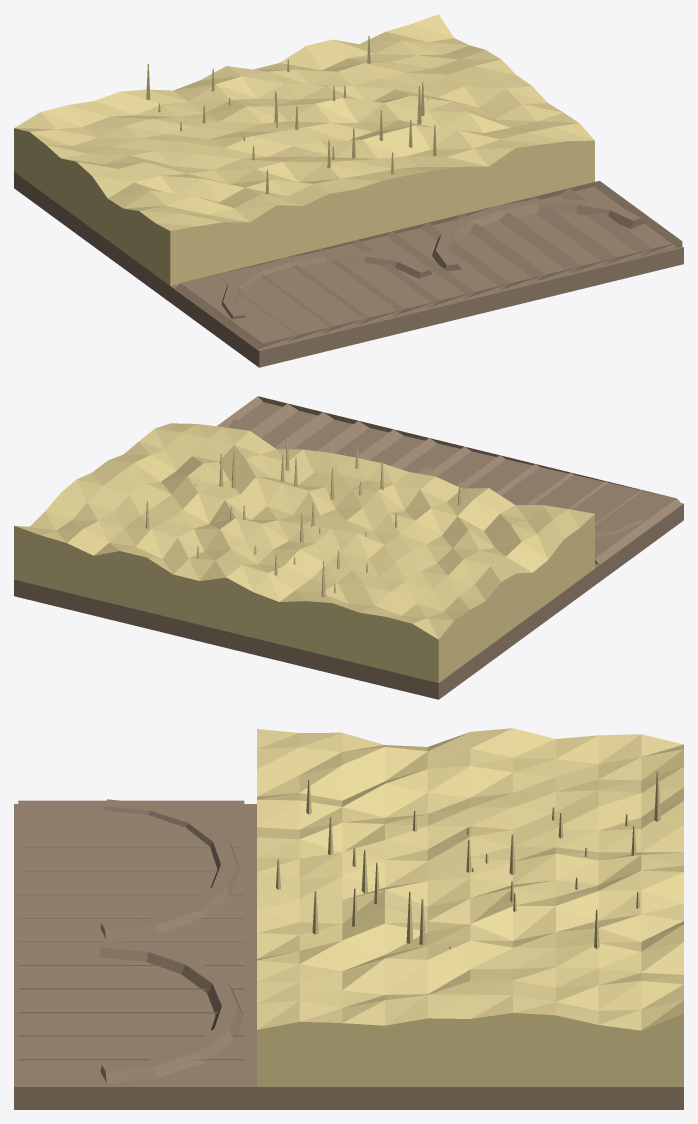
The model's file is arable-fields-and-farm-machinery-field-tile-headland-e1199ecc__16878.glb.
3 renders of one model, top to bottom at view 1: azimuth 30°, elevation 25°; view 2: azimuth 150°, elevation 25°; view 3: azimuth 270°, elevation 25°, orthographic. The views are drawn at different scales.
Visible parts, largest first — view 1: field-tile-headland; view 2: field-tile-headland; view 3: field-tile-headland.
Part boxes in pixels (x1,y1,x2,y2): field-tile-headland: (14,14,683,367); field-tile-headland: (14,396,683,699); field-tile-headland: (14,728,683,1109).
Size of the model in its own units: 8 by 1.82 by 8.
